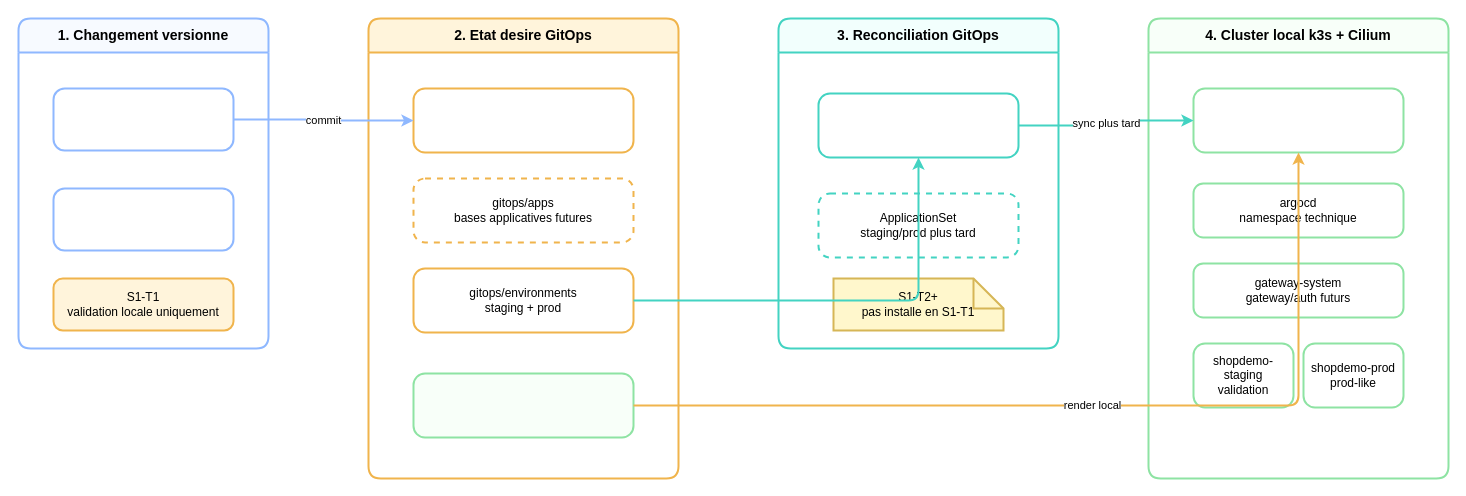
Image size: 1466x496. Some labels were removed from this diagram. Each missing label, with the centre of its shape:
Argo CD observe Git: (918,125)
CI plus tard tests, scans, digest: (143,219)
Developpeur modifie Git: (143,119)
gitops/platform argocd + gateway-system: (523,120)
kubectl kustomize rend sans appliquer: (523,405)
Kubernetes API etat reel du cluster: (1298,120)
